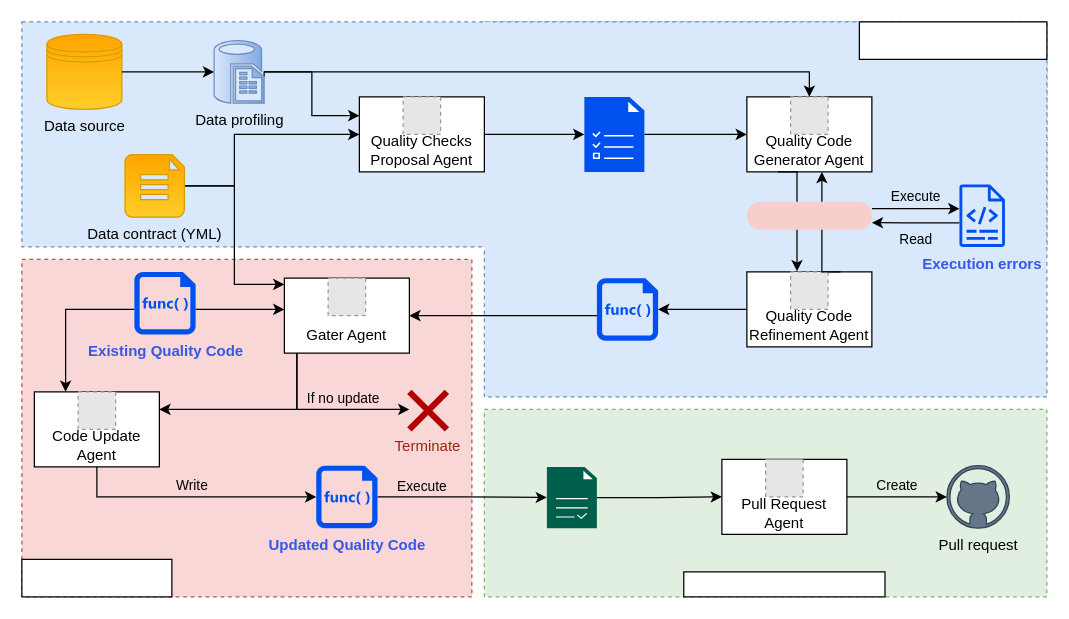
Image size: 1069x619. Some labels were removed from this diagram. Grey dashed boxes stand in for pictures. The centre of each missing label's shape, as x and y in pixels:
"Code Generation" belongs at (952,40).
"Code Update" belongs at (96,577).
"Data Quality Report" belongs at (571,497).
"Error fixing loop" belongs at (808,215).
"New Quality Code" belongs at (627,309).
"Pull Request Creation" belongs at (783,584).
"Quality Checks List" belongs at (613,134).
